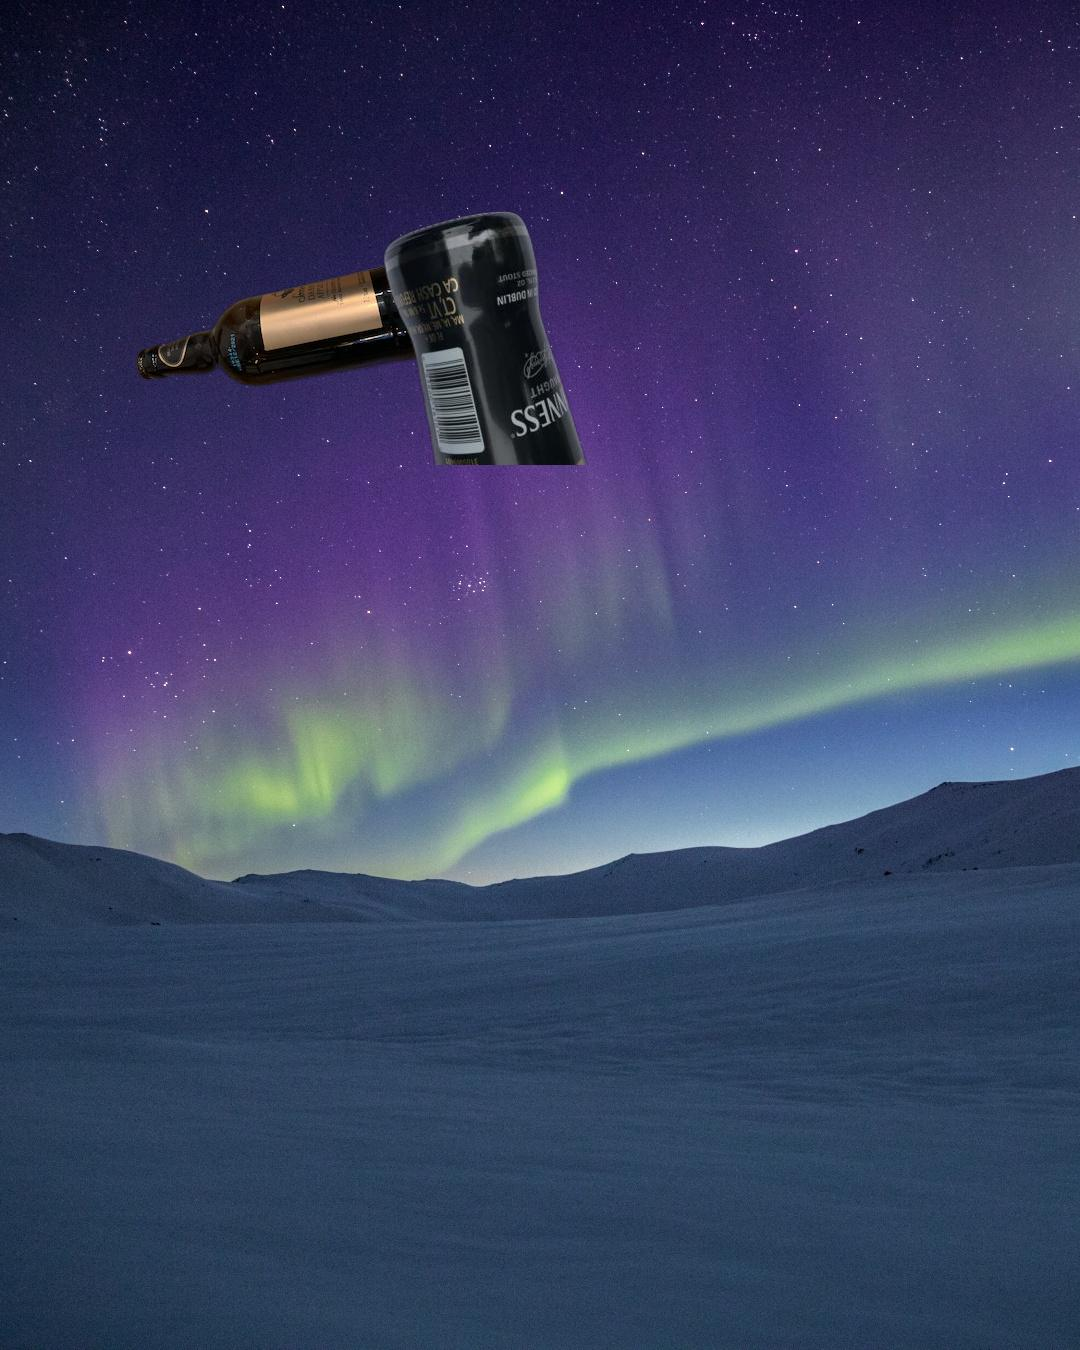glass: (379, 208, 592, 465), (132, 262, 435, 389)
